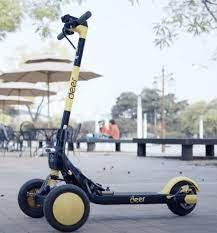kick_board: (18, 11, 200, 232)
kick_body: (102, 192, 163, 203)
kick_handler: (57, 11, 92, 51)
kick_neck: (57, 40, 84, 146)
kick_wheel: (46, 185, 90, 233), (19, 179, 54, 217), (165, 174, 196, 214)
